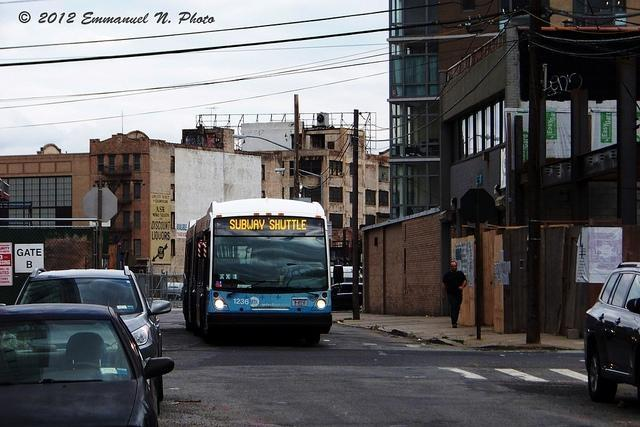bus: (182, 197, 336, 344)
car: (1, 301, 175, 421), (10, 267, 174, 360), (583, 262, 640, 405)
